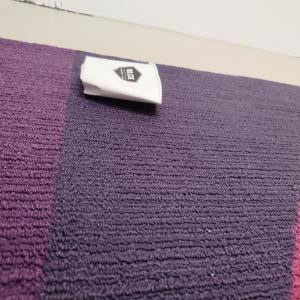Cup: (82, 56, 164, 107)
